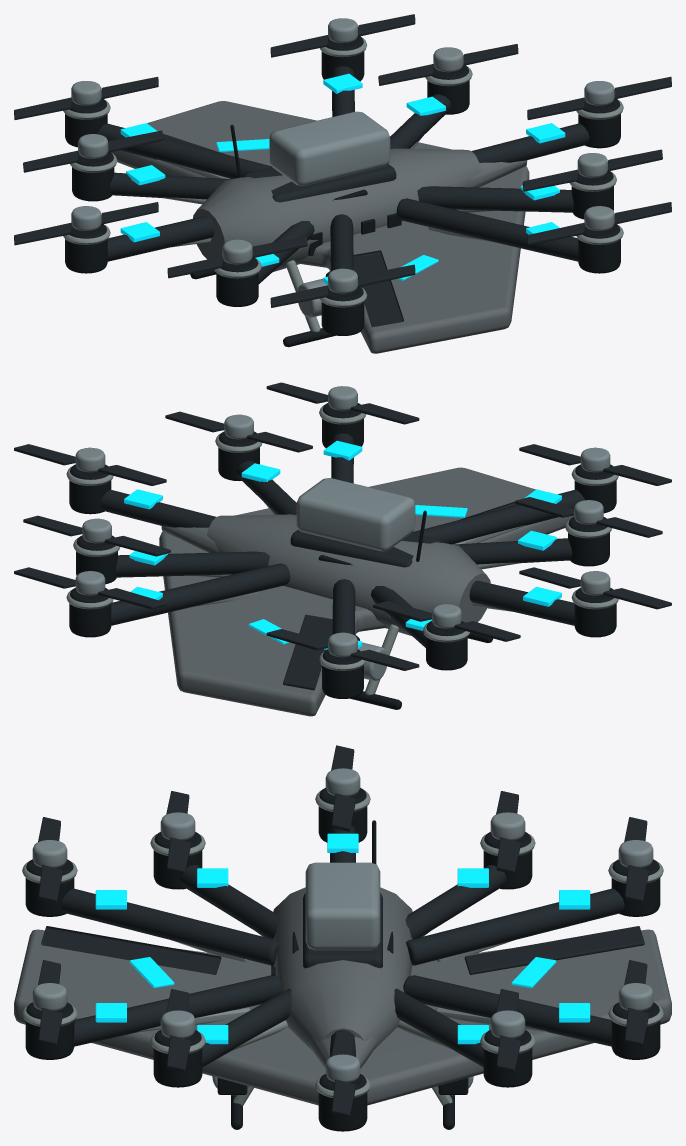
The model's file is drone-library.glb.
3 renders of one model, top to bottom at view 1: azimuth 30°, elevation 25°; view 2: azimuth 150°, elevation 25°; view 3: azimuth 270°, elevation 25°, orthographic. The views are drawn at different scales.
Visible parts, largest first — view 1: 隐形飞翼机体, 流线型复合机身, 蜂群中继设备, 碳纤维承力臂.009, 碳纤维承力臂, 碳纤维承力臂.006, 碳纤维承力臂.007, 碳纤维承力臂.004, 碳纤维承力臂.003, 密封航电舱, 分段控制翼面, 无刷电机.008 (+51 smaller); view 2: 隐形飞翼机体, 流线型复合机身, 蜂群中继设备, 碳纤维承力臂.005, 碳纤维承力臂.001, 碳纤维承力臂.008, 碳纤维承力臂.007, 碳纤维承力臂.002, 碳纤维承力臂.004, 密封航电舱, 分段控制翼面.001, 无刷电机.005 (+51 smaller); view 3: 隐形飞翼机体, 流线型复合机身, 蜂群中继设备, 碳纤维承力臂.006, 碳纤维承力臂.008, 碳纤维承力臂.005, 碳纤维承力臂.009, 分段控制翼面, 分段控制翼面.001, 碳纤维承力臂.002, 碳纤维承力臂.003, 碳纤维承力臂 (+42 smaller).
Part boxes in pixels (x1,y1,x2,y2): 隐形飞翼机体: [111, 101, 529, 353]; 流线型复合机身: [193, 148, 481, 271]; 蜂群中继设备: [269, 111, 390, 185]; 碳纤维承力臂.009: [396, 198, 578, 261]; 碳纤维承力臂: [417, 186, 573, 212]; 碳纤维承力臂.006: [97, 123, 272, 178]; 碳纤维承力臂.007: [107, 216, 214, 261]; 碳纤维承力臂.004: [472, 123, 589, 162]; 碳纤维承力臂.003: [109, 172, 231, 199]; 密封航电舱: [243, 164, 396, 202]; 分段控制翼面: [353, 250, 403, 327]; 无刷电机.008: [321, 287, 364, 335]; 隐形飞翼机体: [159, 467, 573, 716]; 流线型复合机身: [207, 514, 490, 635]; 蜂群中继设备: [296, 478, 415, 551]; 碳纤维承力臂.005: [111, 563, 290, 625]; 碳纤维承力臂.001: [115, 551, 269, 577]; 碳纤维承力臂.008: [412, 489, 584, 544]; 碳纤维承力臂.007: [469, 580, 574, 625]; 碳纤维承力臂.002: [454, 538, 572, 564]; 碳纤维承力臂.004: [100, 489, 215, 527]; 密封航电舱: [290, 530, 441, 567]; 分段控制翼面.001: [283, 614, 332, 690]; 无刷电机.005: [69, 587, 111, 637]; 隐形飞翼机体: [14, 929, 671, 1105]; 流线型复合机身: [273, 887, 412, 1049]; 蜂群中继设备: [305, 862, 380, 950]; 碳纤维承力臂.006: [405, 888, 624, 965]; 碳纤维承力臂.008: [61, 888, 280, 965]; 碳纤维承力臂.005: [403, 975, 611, 1046]; 碳纤维承力臂.009: [74, 975, 282, 1046]; 分段控制翼面: [41, 926, 221, 974]; 分段控制翼面.001: [464, 926, 644, 974]; 碳纤维承力臂.002: [179, 865, 280, 938]; 碳纤维承力臂.003: [405, 865, 506, 938]; 碳纤维承力臂: [202, 988, 291, 1067].
Size of the model in its own units: 5.04 by 1.29 by 3.79.
